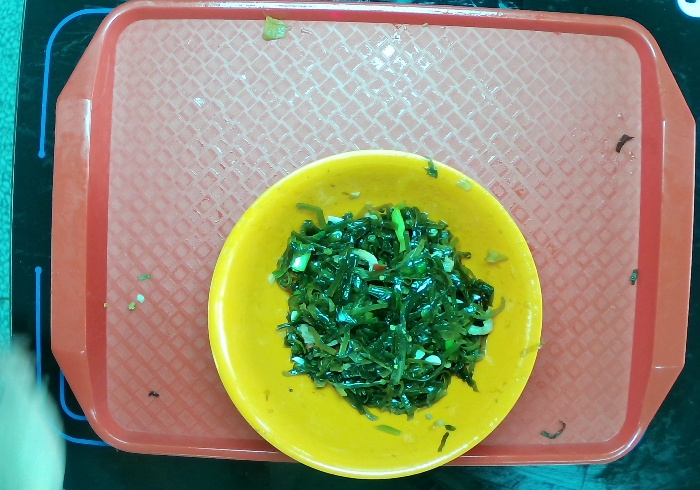YKMZ-Ju_Se_Tang_Wan: (202, 145, 547, 483)
